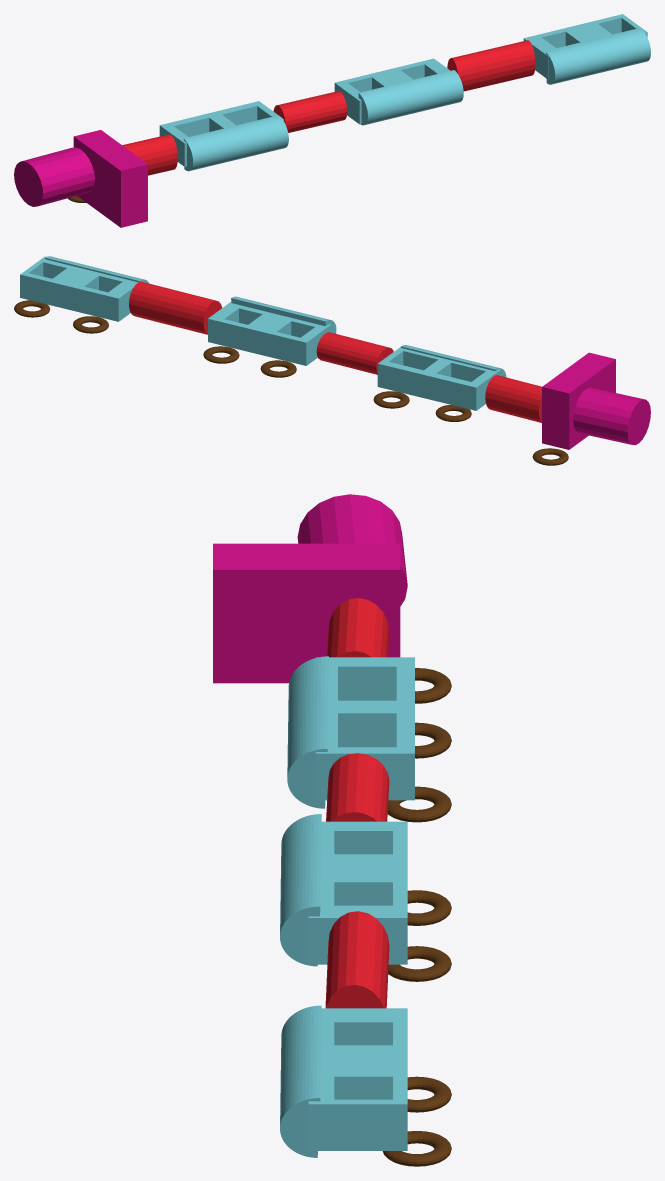
File: tinker.obj
3 views of the same model, one above another, from view 1: azimuth 30°, elevation 25°; view 2: azimuth 150°, elevation 25°; view 3: azimuth 270°, elevation 25° (orthographic). The views are drawn at different scales.
Parts seen in each view (by area): view 1: group_0_7720667, group_0_14093196, group_0_15277357; view 2: group_0_7720667, group_0_14093196, group_0_15277357, group_0_6306067; view 3: group_0_7720667, group_0_14093196, group_0_15277357, group_0_6306067.
Boxes of the visible parts, x1,y1,x2,y2 form: group_0_7720667: [159, 14, 650, 171]; group_0_14093196: [14, 130, 147, 227]; group_0_15277357: [122, 40, 535, 175]; group_0_7720667: [20, 256, 506, 410]; group_0_14093196: [542, 352, 650, 449]; group_0_15277357: [129, 281, 541, 422]; group_0_6306067: [14, 300, 568, 465]; group_0_7720667: [280, 656, 414, 1157]; group_0_14093196: [213, 494, 407, 683]; group_0_15277357: [325, 598, 389, 1008]; group_0_6306067: [383, 668, 451, 1166].
Bounding box in the file's own units: 382 × 40 × 65.
